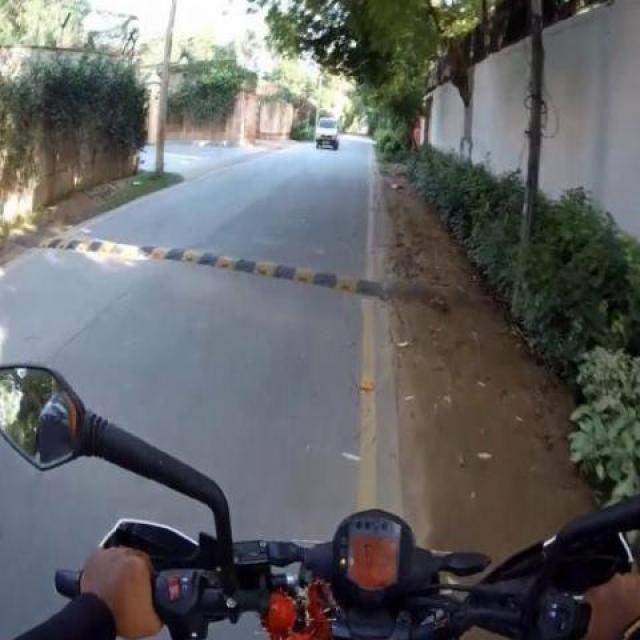Speed Bump: (38, 234, 388, 308)
